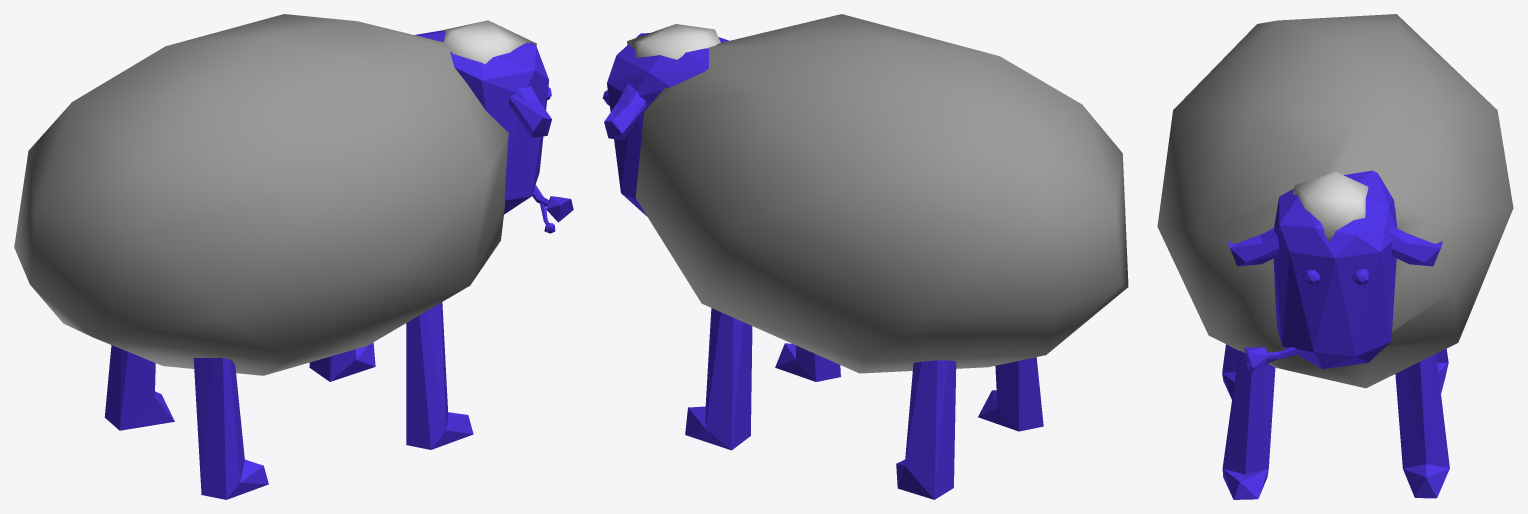
Rendered from sheepy.glb.
The picture shows the model from 3 angles, left to right: view 1: azimuth 30°, elevation 25°; view 2: azimuth 150°, elevation 25°; view 3: azimuth 270°, elevation 25°; orthographic projection. The views are drawn at different scales.
Parts seen in each view (by area): view 1: Icosphere.003; view 2: Icosphere.003; view 3: Icosphere.003.
Part boxes in pixels (left/top/right/bottom): Icosphere.003: left=14, top=14, right=573, bottom=499; Icosphere.003: left=602, top=14, right=1128, bottom=499; Icosphere.003: left=1157, top=14, right=1513, bottom=499.
Bounding box in the file's own units: 1.82 × 1.36 × 1.14.
